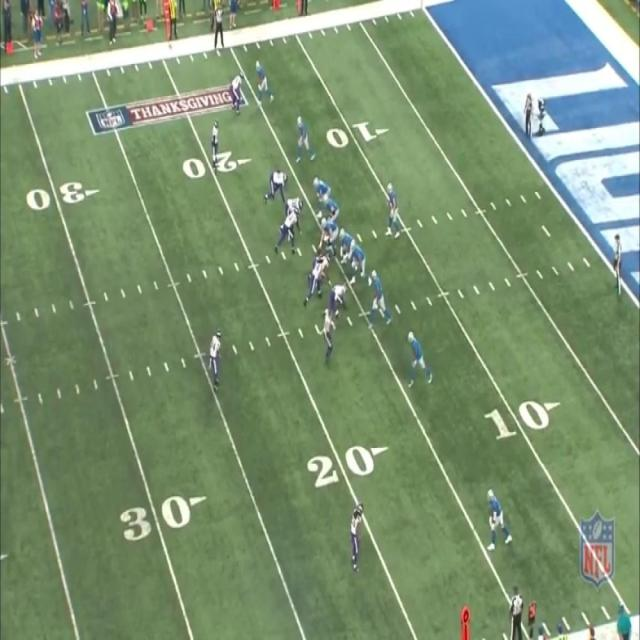center: (318, 220, 334, 252)
db: (348, 500, 363, 566), (208, 331, 223, 392), (230, 69, 244, 112), (212, 121, 219, 172)
lb: (280, 210, 298, 251), (320, 312, 334, 359), (310, 258, 324, 299)
qb: (384, 181, 401, 235)
